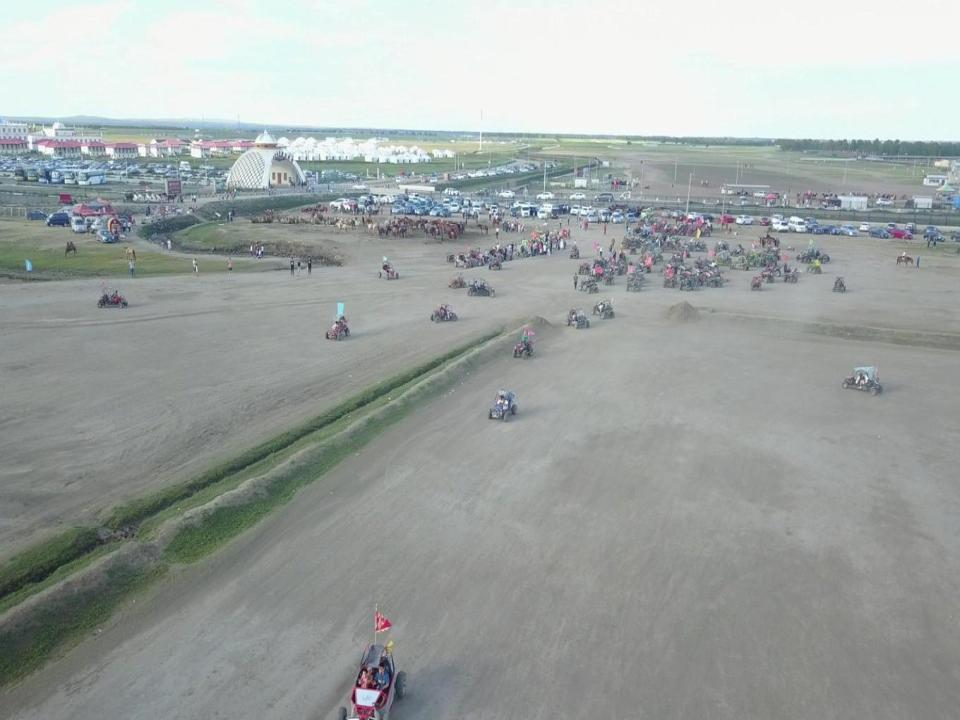car: (891, 228, 913, 241), (924, 230, 945, 242), (736, 214, 755, 227), (868, 227, 890, 238), (840, 224, 858, 236), (822, 223, 839, 235), (876, 197, 894, 207), (772, 221, 787, 233), (802, 217, 816, 229), (571, 205, 586, 216), (536, 191, 554, 200), (686, 211, 702, 221), (512, 200, 528, 210), (358, 195, 374, 205), (408, 192, 420, 205), (808, 223, 822, 234), (558, 202, 569, 216), (525, 200, 539, 211), (416, 205, 430, 216), (720, 187, 736, 196), (499, 189, 515, 198), (430, 206, 442, 218), (405, 204, 417, 216), (582, 207, 596, 217), (754, 190, 768, 200), (421, 195, 435, 205), (345, 198, 360, 207), (905, 222, 916, 234), (418, 199, 430, 210), (618, 190, 631, 200), (570, 192, 586, 200), (474, 188, 490, 196), (718, 216, 736, 223), (331, 198, 349, 205), (759, 217, 771, 227), (641, 208, 653, 218), (700, 214, 713, 223), (352, 183, 366, 191), (480, 169, 494, 177), (886, 222, 896, 233), (860, 221, 870, 232), (611, 212, 621, 223), (535, 208, 545, 219), (440, 206, 450, 217), (405, 199, 417, 208), (392, 206, 402, 216), (661, 209, 672, 218), (625, 214, 636, 223), (445, 186, 456, 195), (429, 199, 438, 210), (672, 210, 684, 218), (462, 204, 470, 216), (394, 198, 406, 206), (369, 195, 381, 203), (452, 172, 464, 180), (395, 194, 408, 201), (453, 200, 463, 209), (436, 203, 445, 213), (550, 208, 558, 219), (505, 201, 516, 209), (450, 202, 458, 213), (472, 200, 484, 207), (357, 199, 364, 211), (587, 213, 596, 222), (740, 196, 750, 204), (491, 205, 499, 215), (473, 204, 481, 214), (455, 198, 465, 206), (468, 171, 479, 178), (951, 232, 960, 240), (486, 199, 498, 205), (444, 196, 452, 205), (448, 175, 458, 182), (475, 169, 485, 176), (480, 170, 490, 177), (382, 195, 393, 201), (430, 176, 438, 184), (510, 207, 516, 217), (485, 170, 495, 176), (396, 177, 404, 184), (774, 189, 779, 199), (459, 174, 469, 179), (485, 202, 491, 210), (464, 198, 470, 206)
van: (787, 216, 805, 232), (594, 192, 614, 201), (598, 208, 610, 222), (540, 204, 556, 213), (772, 214, 784, 225), (520, 206, 530, 218), (442, 198, 450, 210)
